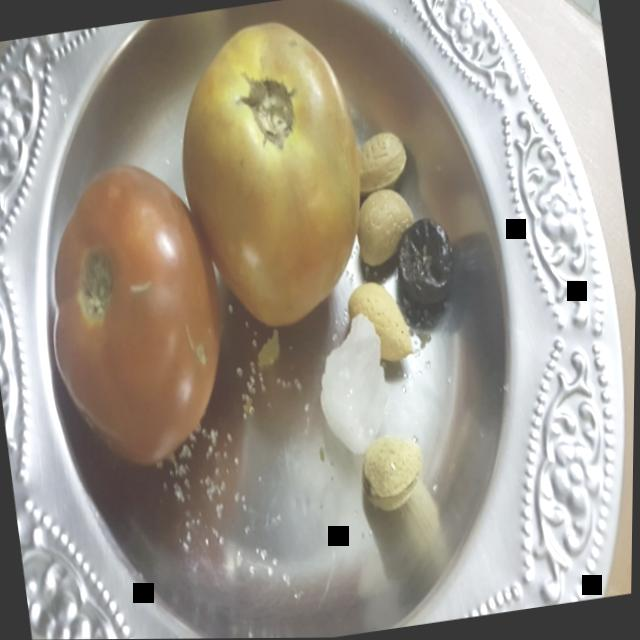tomato: (142, 2, 400, 350), (12, 143, 246, 492)
